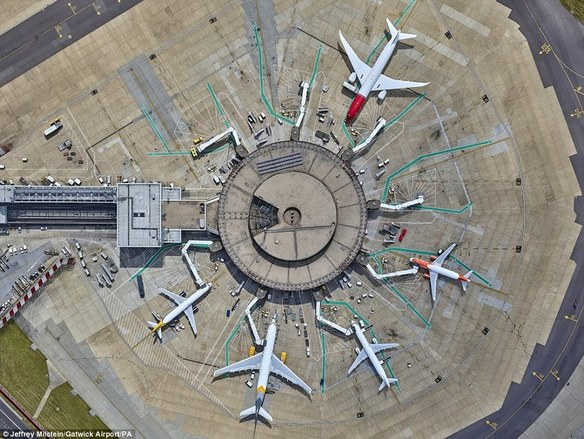aircraft: (336, 17, 431, 128), (213, 321, 313, 426), (345, 319, 400, 395), (147, 282, 213, 344), (409, 242, 475, 304)
